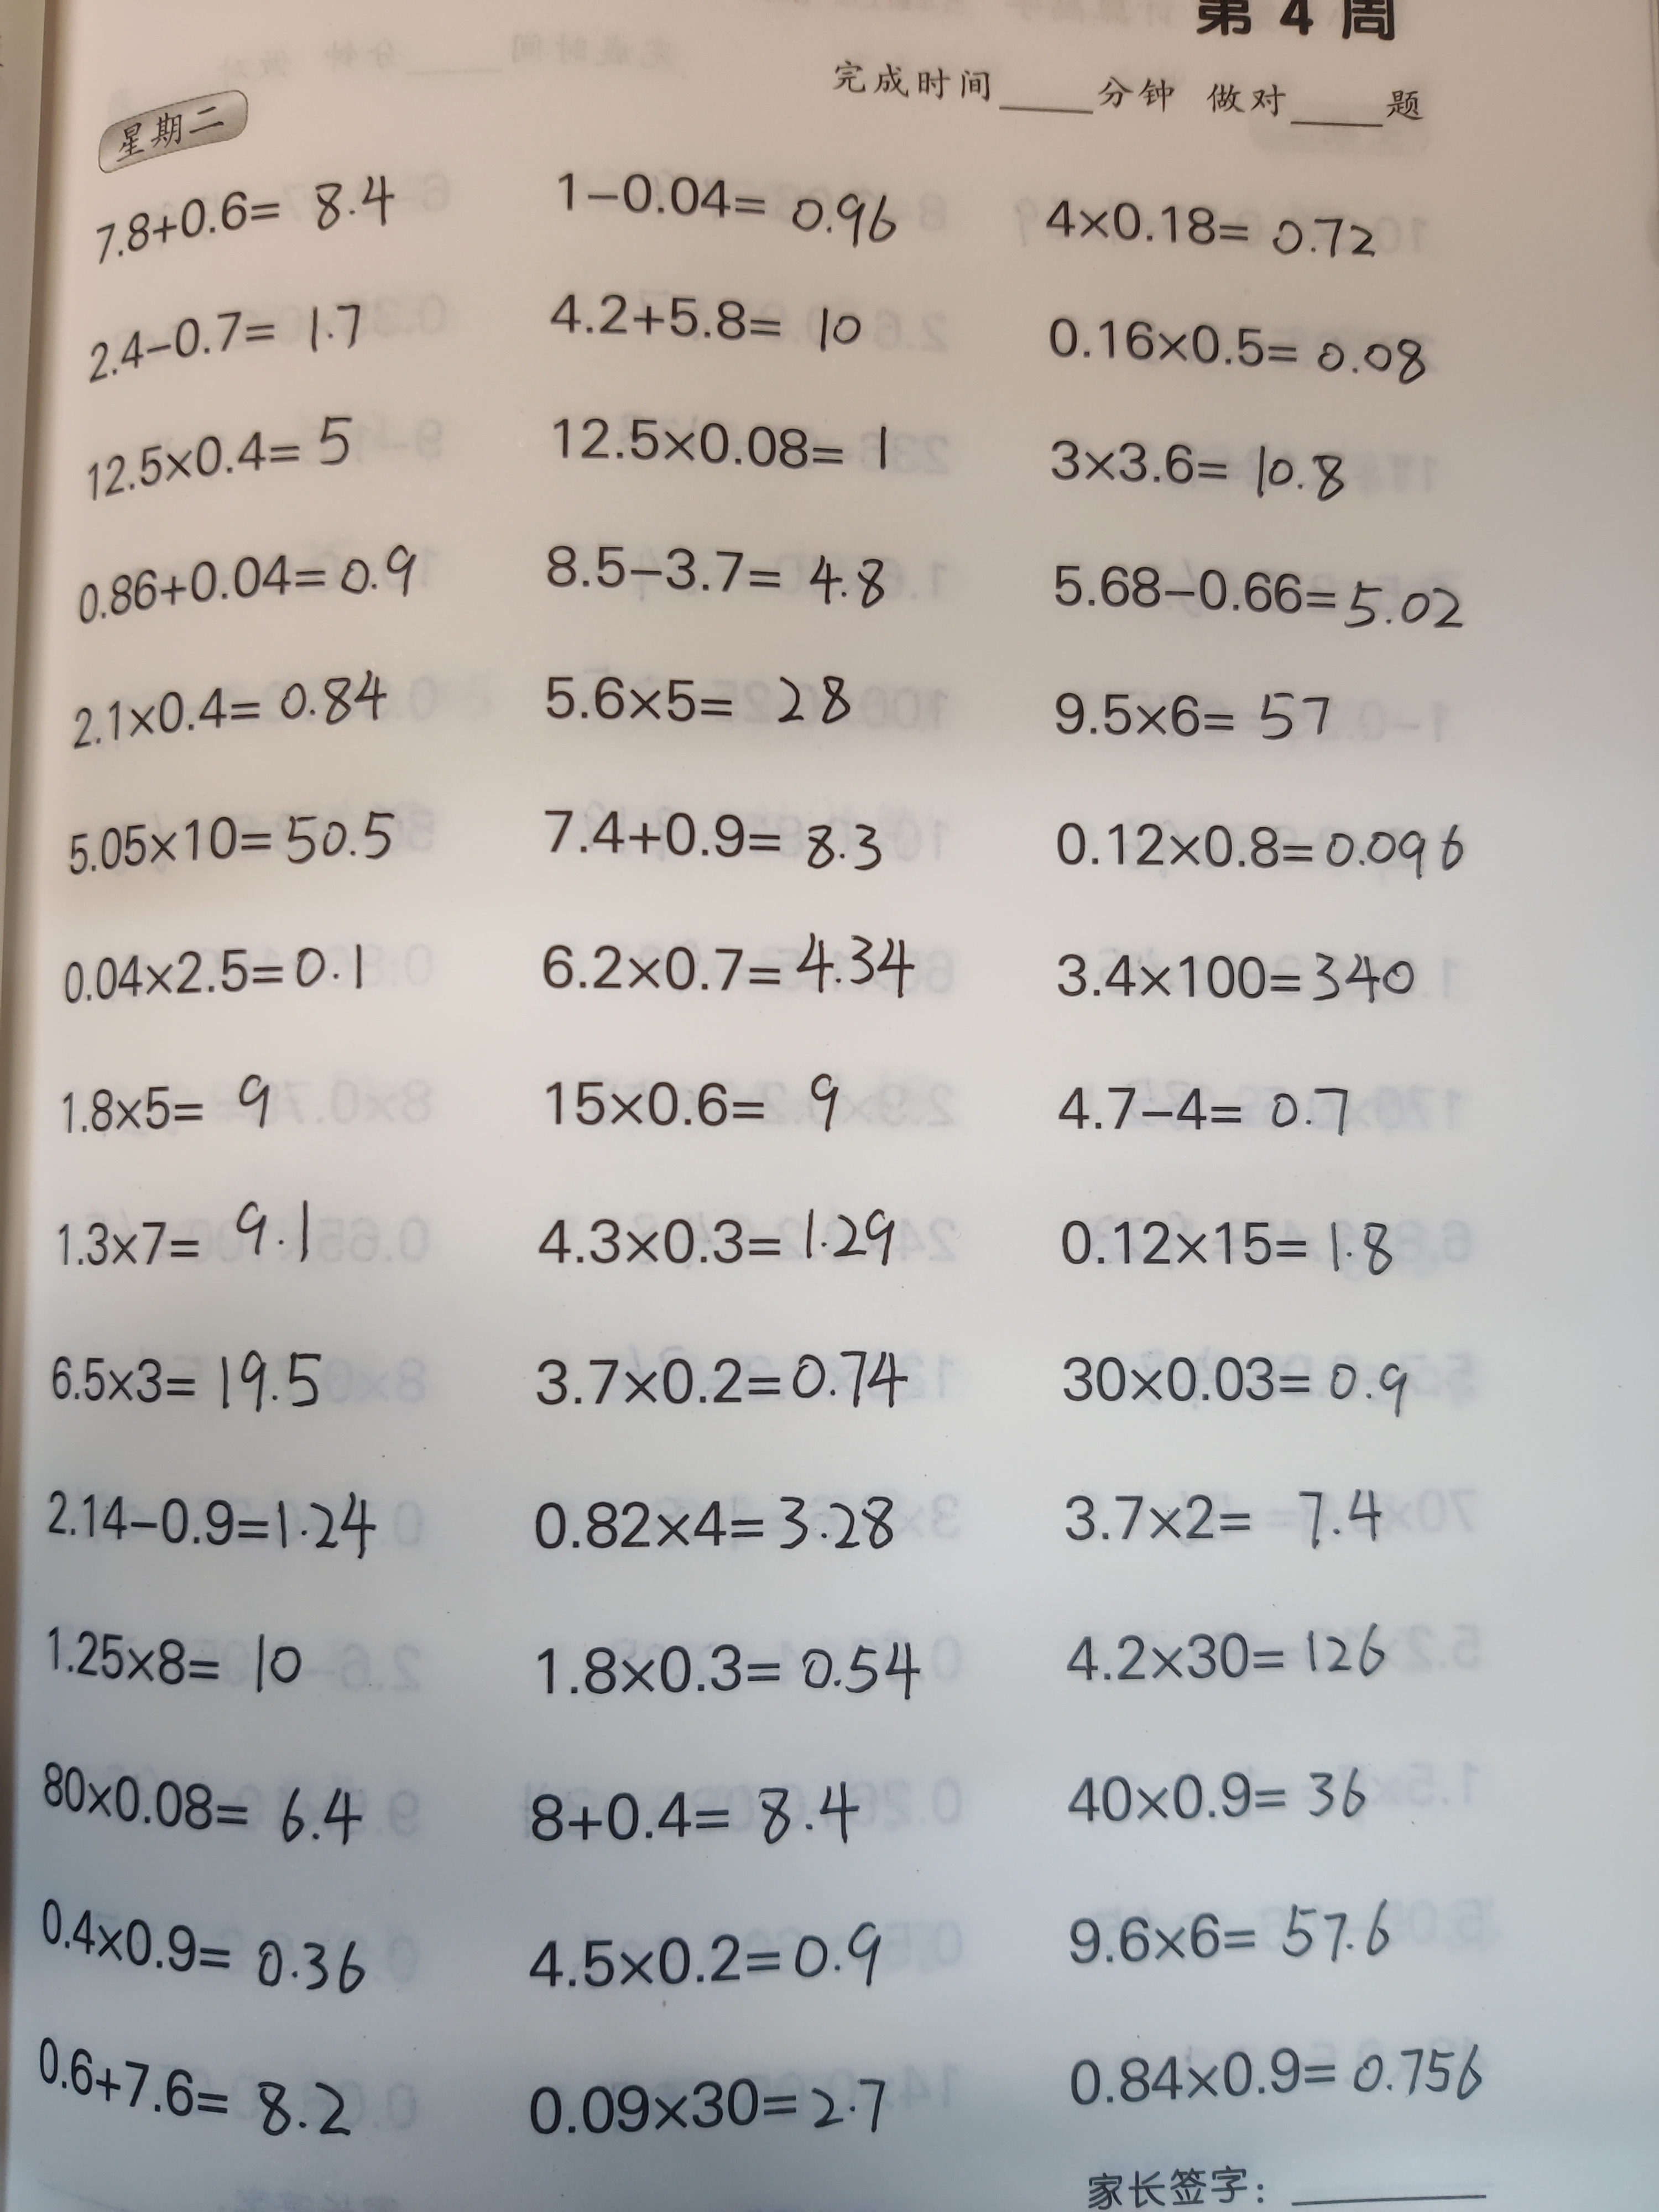equation: (1037, 545, 1481, 653), (518, 1618, 946, 1724), (1040, 798, 1481, 899), (1023, 164, 1385, 286), (516, 1325, 920, 1433), (1060, 2029, 1497, 2125), (35, 1888, 371, 2012), (516, 1183, 903, 1287), (31, 2027, 375, 2142), (509, 1474, 903, 1573), (1037, 308, 1445, 404), (1032, 1061, 1396, 1167), (556, 146, 897, 260), (28, 1752, 362, 1865), (504, 923, 934, 1010), (502, 1907, 889, 2003), (549, 399, 903, 503), (75, 165, 404, 277), (1037, 925, 1427, 1019), (516, 2060, 901, 2155), (1056, 1332, 1432, 1428), (1042, 1193, 1405, 1291), (68, 402, 389, 512), (521, 646, 871, 742), (533, 531, 892, 624), (37, 1334, 347, 1440), (44, 1472, 376, 1569), (52, 538, 422, 625), (533, 273, 873, 368), (528, 796, 892, 883), (516, 1777, 871, 1865), (59, 665, 397, 758), (528, 1055, 859, 1150), (1054, 1750, 1384, 1844), (1060, 1892, 1415, 1979), (52, 928, 375, 1024), (1040, 672, 1354, 770), (42, 1183, 333, 1287), (54, 801, 411, 885), (1035, 1474, 1399, 1555), (1060, 1613, 1415, 1696), (40, 1611, 326, 1714), (1044, 428, 1354, 521), (75, 298, 389, 381), (54, 1062, 301, 1158)
